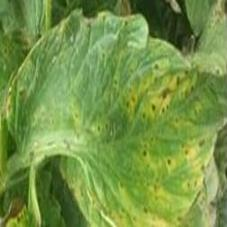Bacterial Spot: (6, 7, 227, 227)
